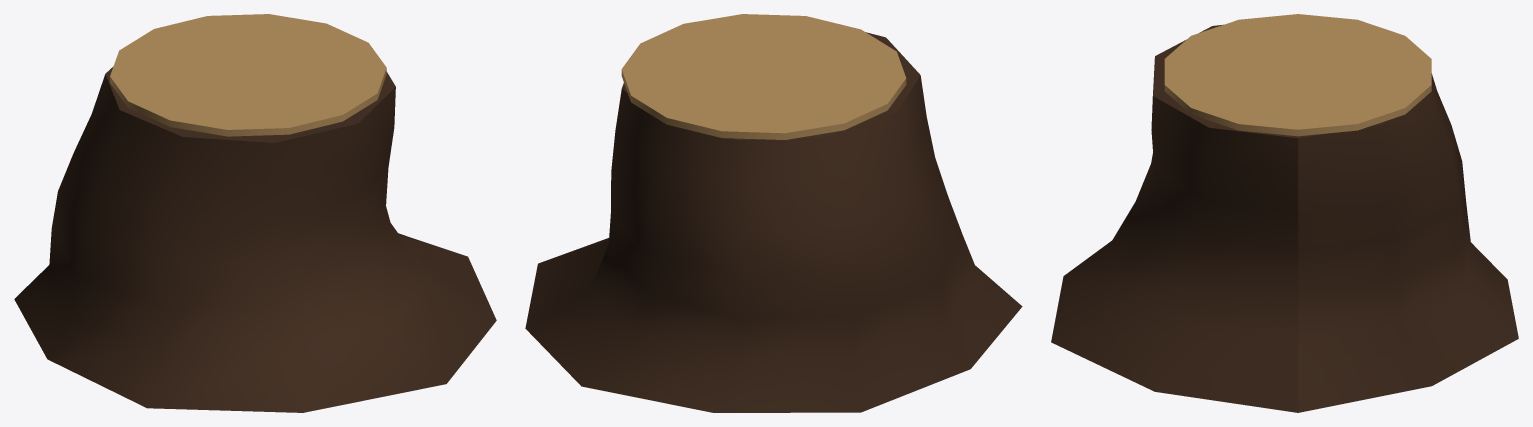
The model's file is toco.glb.
The picture shows the model from 3 angles, left to right: view 1: azimuth 30°, elevation 25°; view 2: azimuth 150°, elevation 25°; view 3: azimuth 270°, elevation 25°; orthographic projection. The views are drawn at different scales.
Visible parts, largest first — view 1: Prop; view 2: Prop; view 3: Prop.
Boxes of the visible parts, <box> form: Prop: <box>14,14,496,412</box>; Prop: <box>525,14,1022,412</box>; Prop: <box>1051,14,1518,412</box>.
Size of the model in its own units: 1.33 by 0.72 by 1.3.
